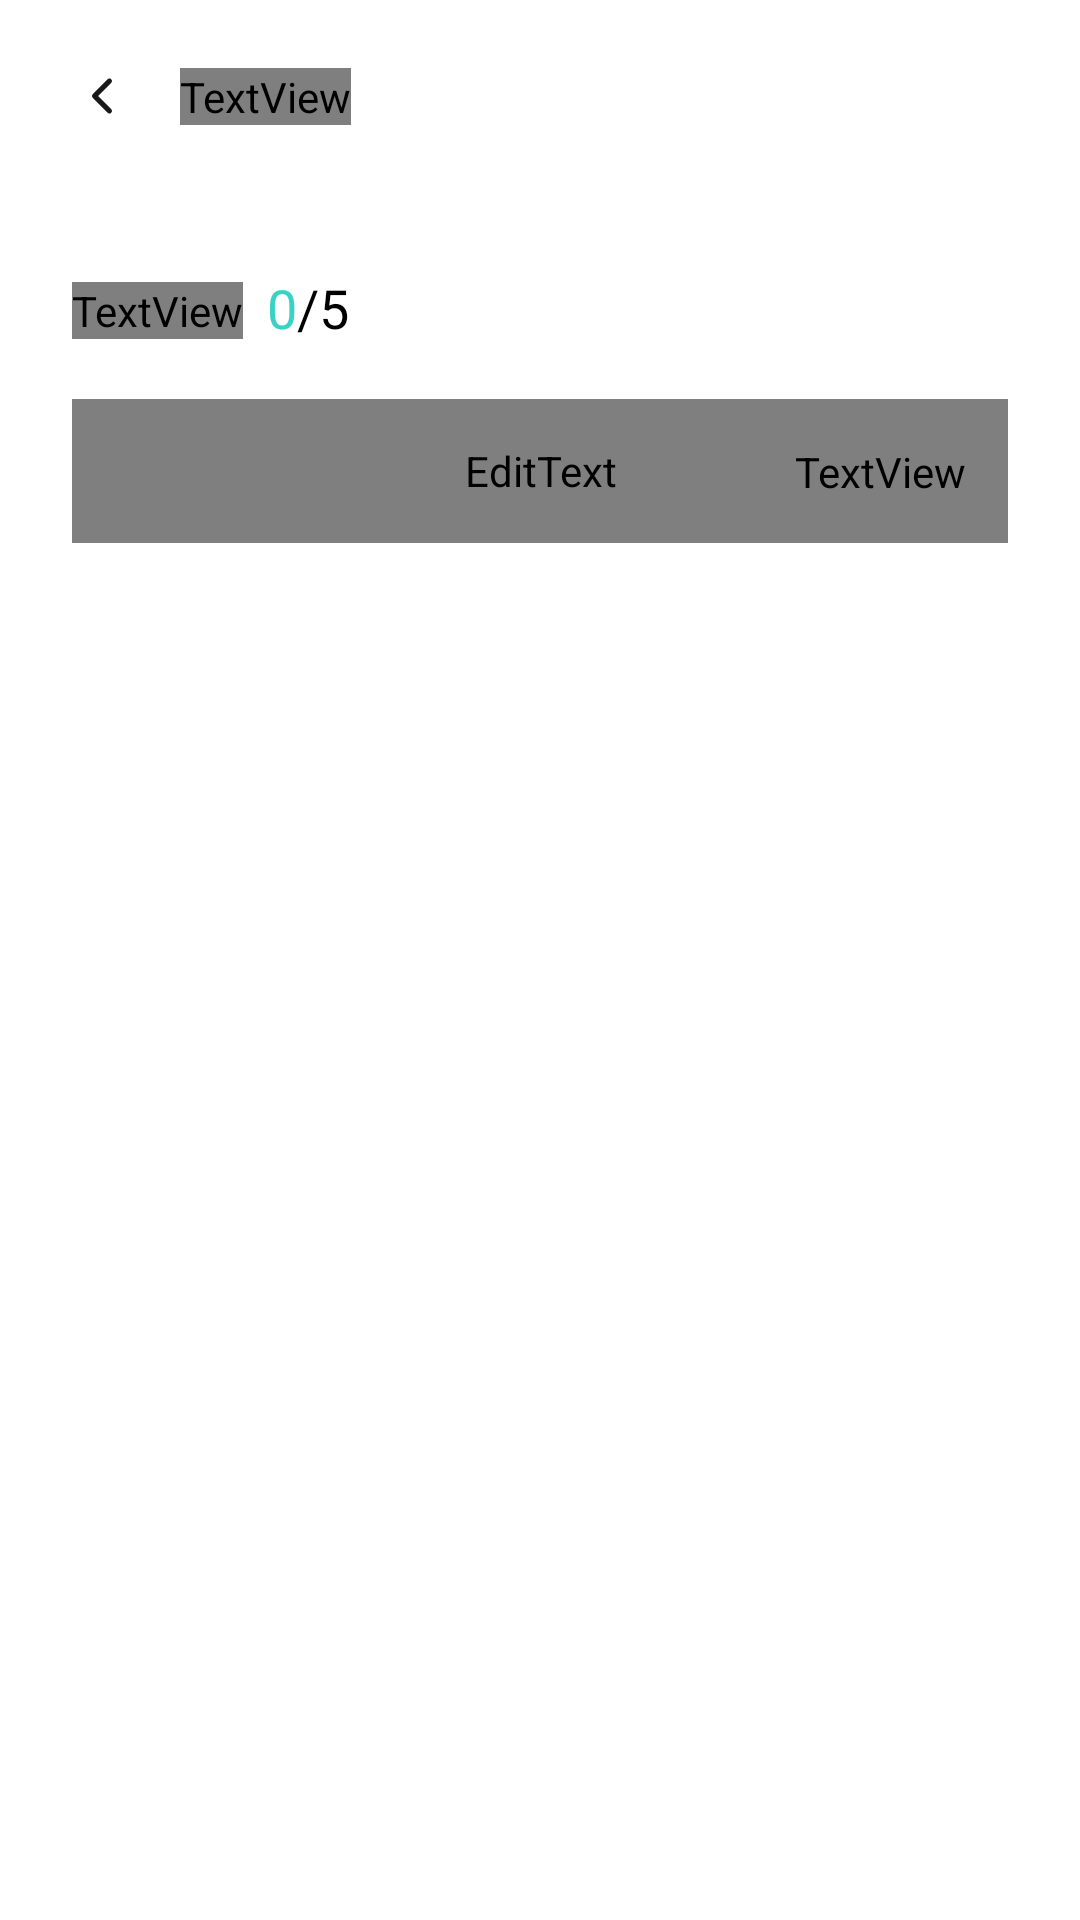

Icon bounding boxes for this 1080 × 1920 phone screenshot, format [x1, y1, x2, y2]:
back: [92, 78, 112, 114]
